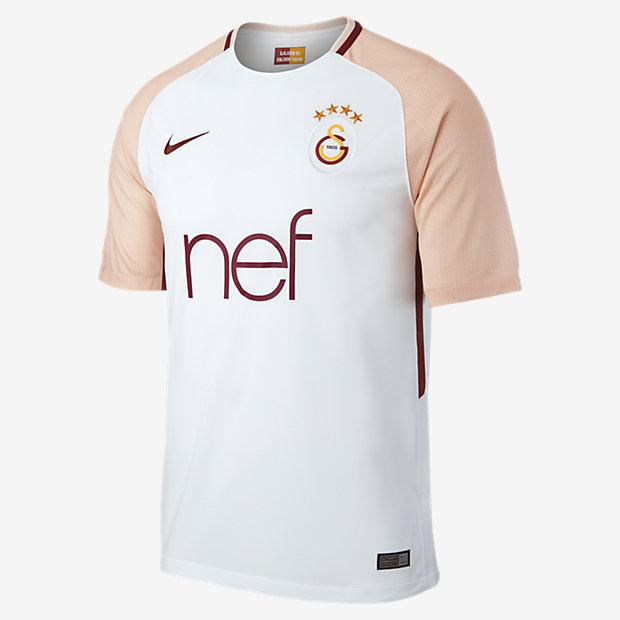teeshirt: (93, 15, 544, 620)
